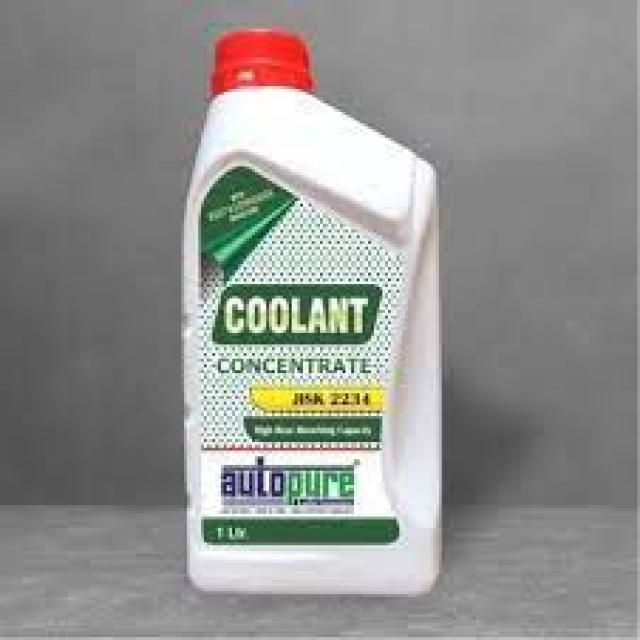coolant: (177, 24, 448, 606)
